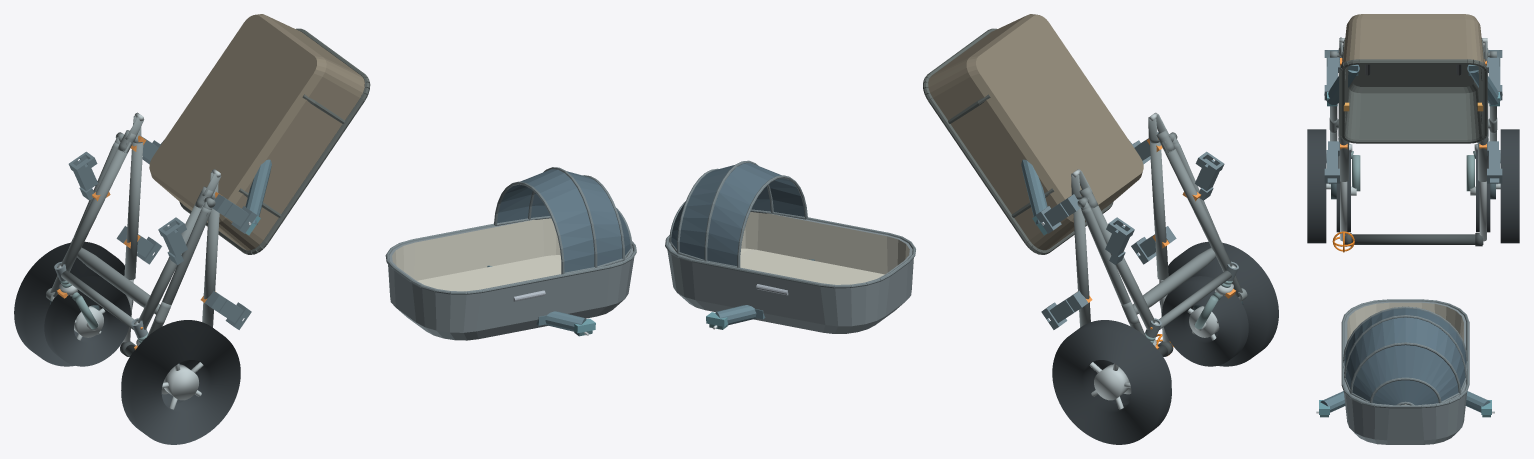
File: D15_w550_state3_wheel_L.glb
The picture shows the model from 3 angles, left to right: view 1: azimuth 30°, elevation 25°; view 2: azimuth 150°, elevation 25°; view 3: azimuth 270°, elevation 25°; orthographic projection. The views are drawn at different scales.
Parts seen in each view (by area): view 1: D15_Upper, D15_Lower, RL_tire.004, FR_tire.004, RR_tire.004, main_upper_1.005, main_lower_1.005, V46_rearbar.005, main_upper_-1.005, V46_rear_leg_-1.005, main_lower_-1.005, D15_Lower_Mount_M (+7 smaller); view 2: D15_Upper, D15_Lower, RR_tire.004, FL_tire.004, RL_tire.004, main_upper_-1.005, main_lower_-1.005, V46_rearbar.005, main_upper_1.005, V46_rear_leg_1.005, main_lower_1.005, D15_Lower_Mount_M (+8 smaller); view 3: D15_Lower, D15_Upper, RL_tire.004, RR_tire.004, round_handle.004, D15_Lower_Mount_M, D15_Upper_Mount_H, Universal_Cabin_Receiver_H_1, Universal_Cabin_Receiver_H_-1, main_upper_1.005, main_upper_-1.005, FL_tire.004 (+8 smaller).
Part boxes in pixels (box(x1,y1,x2,y2)): D15_Upper: box(385, 167, 636, 340); D15_Lower: box(149, 14, 370, 254); RL_tire.004: box(121, 320, 240, 444); FR_tire.004: box(44, 276, 130, 366); RR_tire.004: box(14, 241, 133, 366); main_upper_1.005: box(124, 142, 143, 279); main_lower_1.005: box(60, 142, 131, 271); V46_rearbar.005: box(77, 247, 159, 314); main_upper_-1.005: box(202, 199, 219, 327); V46_rear_leg_-1.005: box(147, 207, 211, 336); main_lower_-1.005: box(137, 203, 204, 329); D15_Lower_Mount_M: box(160, 140, 271, 235); D15_Upper: box(665, 160, 915, 333); D15_Lower: box(923, 14, 1143, 254); RR_tire.004: box(1052, 320, 1171, 444); FL_tire.004: box(1162, 276, 1248, 366); RL_tire.004: box(1159, 241, 1278, 366); main_upper_-1.005: box(1150, 142, 1168, 279); main_lower_-1.005: box(1162, 142, 1232, 271); V46_rearbar.005: box(1133, 247, 1215, 314); main_upper_1.005: box(1073, 199, 1090, 327); V46_rear_leg_1.005: box(1081, 207, 1145, 336); main_lower_1.005: box(1089, 205, 1155, 329); D15_Lower_Mount_M: box(1021, 139, 1132, 235); D15_Lower: box(1339, 14, 1487, 143); D15_Upper: box(1341, 299, 1469, 444); RL_tire.004: box(1307, 129, 1326, 243); RR_tire.004: box(1500, 129, 1519, 243); round_handle.004: box(1351, 234, 1483, 244); D15_Lower_Mount_M: box(1324, 64, 1502, 106); D15_Upper_Mount_H: box(1316, 391, 1494, 417); Universal_Cabin_Receiver_H_1: box(1487, 141, 1502, 183); Universal_Cabin_Receiver_H_-1: box(1324, 141, 1339, 183); main_upper_1.005: box(1478, 63, 1488, 181); main_upper_-1.005: box(1338, 63, 1348, 181); FL_tire.004: box(1336, 150, 1350, 232).
Bounding box in the file's own units: 1.79 × 1.02 × 0.671.
